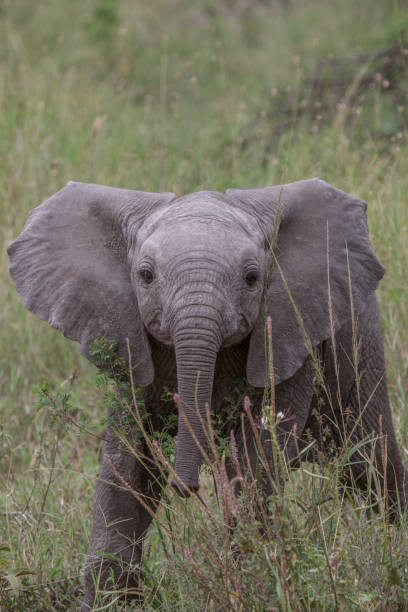africanelephant: (95, 187, 304, 404)
